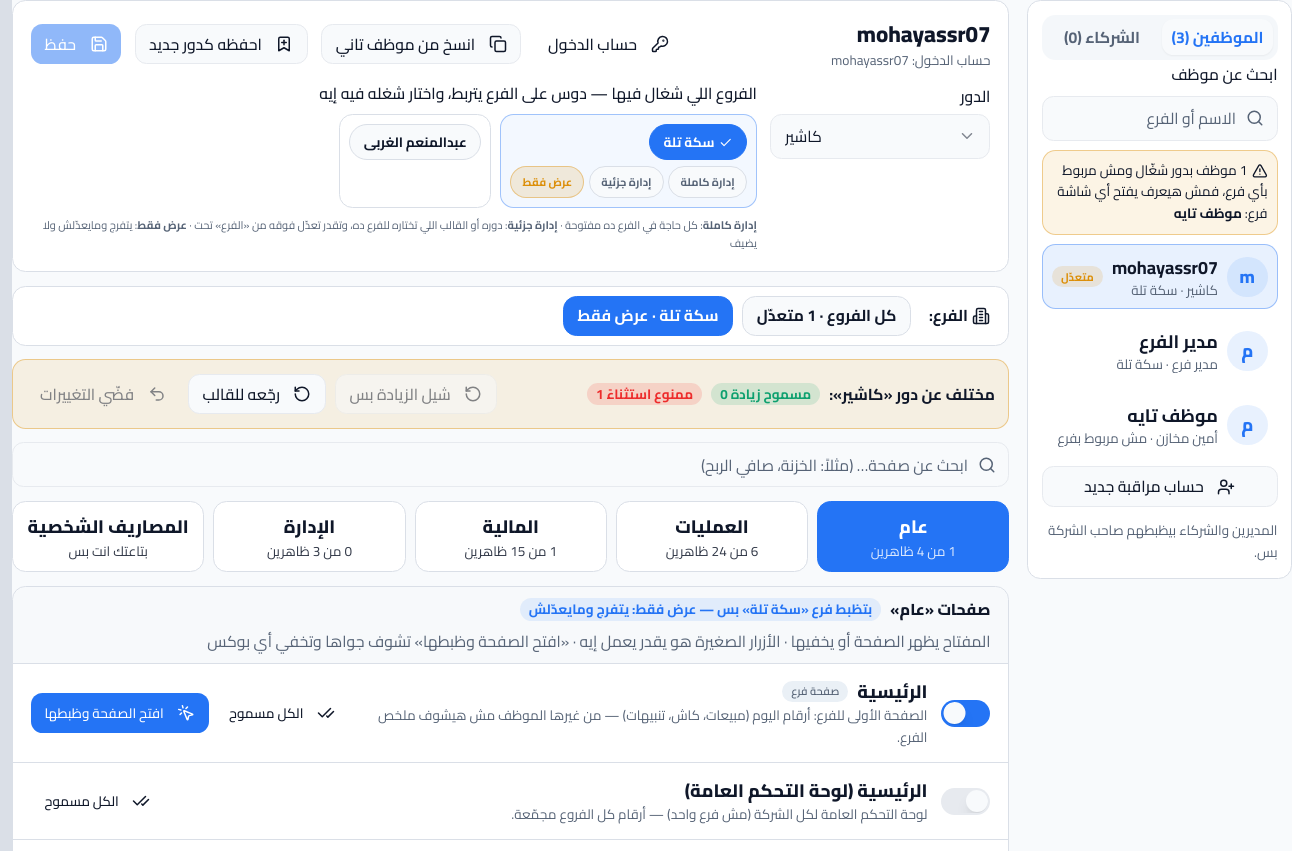
Test: Employees permissions screen › in a «عرض فقط» branch the write buttons are locked
Click the tab "العمليات 6 من 24 ظاهرين" at coordinates (712, 536), box [616, 500, 808, 572]
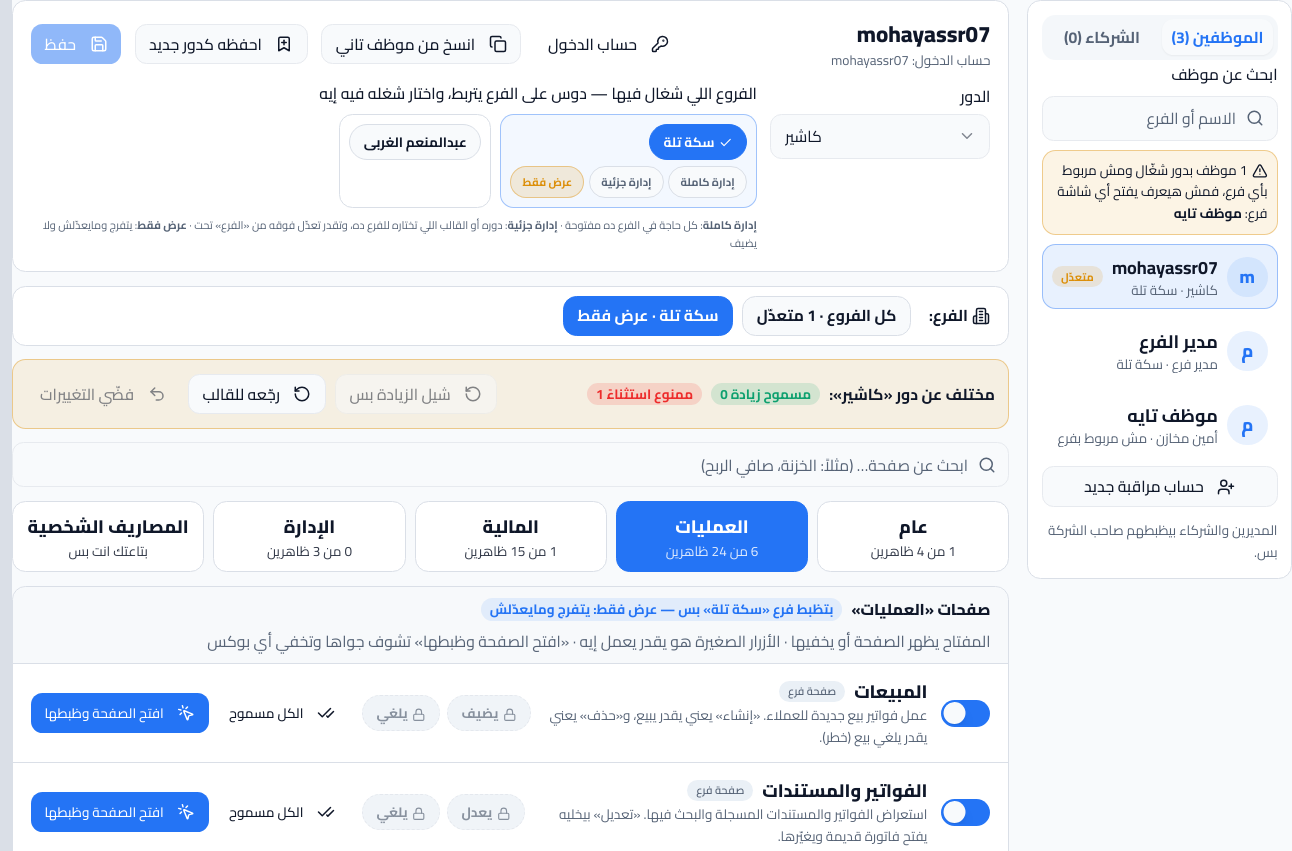
Result: the button with aria-label "الفرع ده «عرض فقط»" is disabled at [447, 695, 531, 731]
